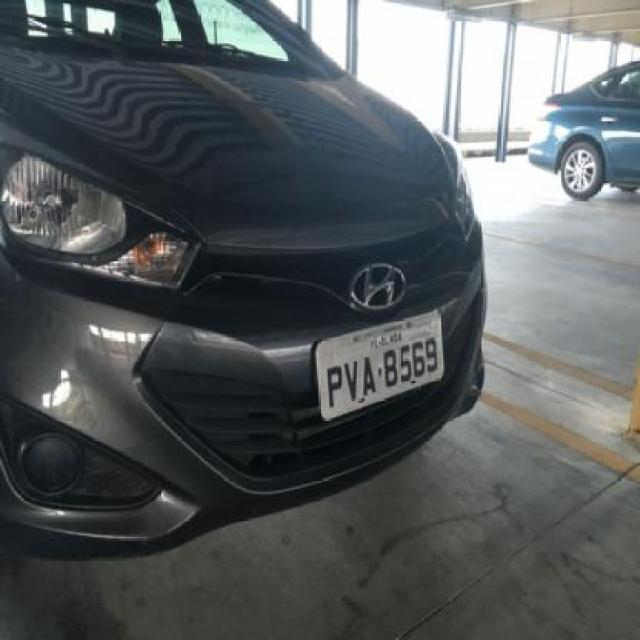old_plate: (310, 306, 450, 426)
